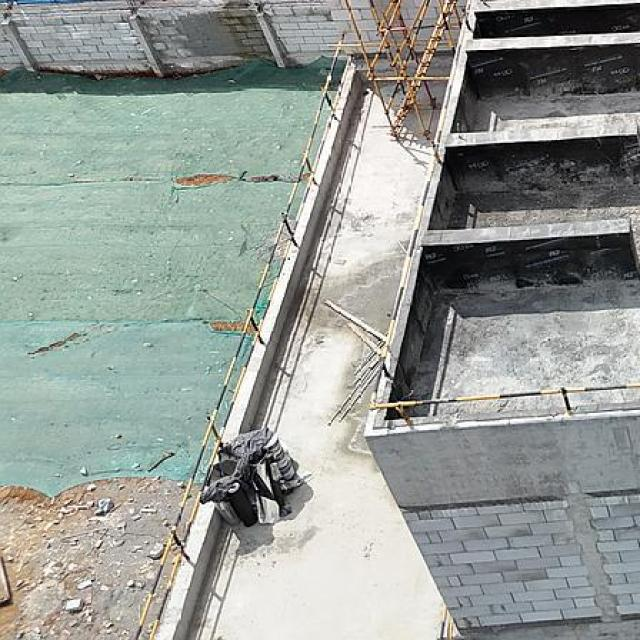edge_guardrail: (132, 31, 354, 640), (368, 0, 640, 427)
